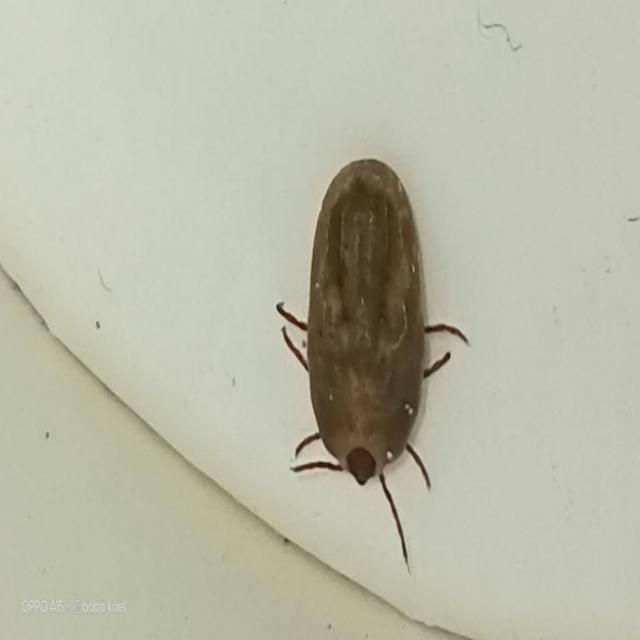Rhipicephalus Sanguineus-F-Fed: (276, 160, 462, 579)
